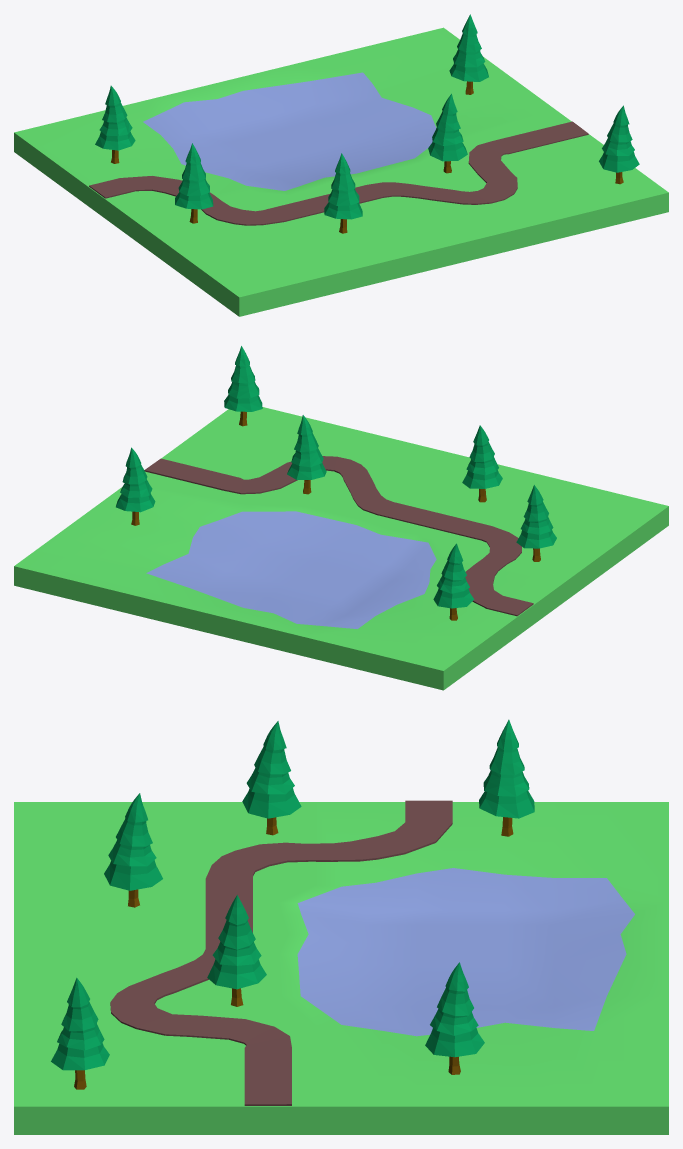
File: Park.fbx
3 renders of one model, top to bottom at view 1: azimuth 30°, elevation 25°; view 2: azimuth 150°, elevation 25°; view 3: azimuth 270°, elevation 25°, orthographic. The views are drawn at different scales.
Visible parts, largest first — view 1: pCube1, pCube2, Cylinder009, Cylinder007, Cylinder008, Cylinder0010, Cylinder0012, Cylinder0011; view 2: pCube1, pCube2, Cylinder0011, Cylinder009, Cylinder0012, Cylinder008, Cylinder0010, Cylinder007; view 3: pCube1, pCube2, Cylinder008, Cylinder0012, Cylinder0010, Cylinder0011, Cylinder007, Cylinder009.
Boxes of the visible parts, x1,y1,x2,y2 form: pCube1: [14, 27, 668, 316]; pCube2: [89, 121, 588, 225]; Cylinder009: [599, 105, 639, 184]; Cylinder007: [428, 93, 467, 173]; Cylinder008: [324, 153, 362, 233]; Cylinder0010: [449, 14, 488, 94]; Cylinder0012: [175, 143, 213, 223]; Cylinder0011: [95, 85, 135, 163]; pCube1: [14, 407, 668, 690]; pCube2: [144, 456, 533, 616]; Cylinder0011: [433, 543, 474, 620]; Cylinder009: [224, 346, 262, 426]; Cylinder0012: [516, 485, 556, 561]; Cylinder008: [462, 425, 502, 502]; Cylinder0010: [116, 447, 155, 525]; Cylinder007: [287, 415, 326, 494]; pCube1: [14, 802, 668, 1134]; pCube2: [110, 800, 452, 1105]; Cylinder008: [104, 793, 162, 907]; Cylinder0012: [242, 721, 301, 835]; Cylinder0010: [425, 962, 484, 1074]; Cylinder0011: [479, 719, 534, 836]; Cylinder007: [207, 895, 266, 1006]; Cylinder009: [51, 977, 109, 1089].
Bounding box in the file's own units: 45.67 × 9.84 × 41.49.
